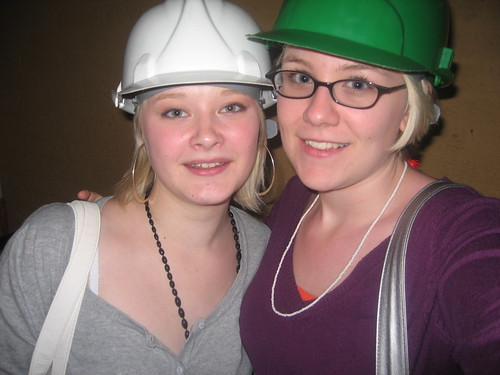person hardhat: (2, 1, 277, 375), (246, 1, 500, 375)
